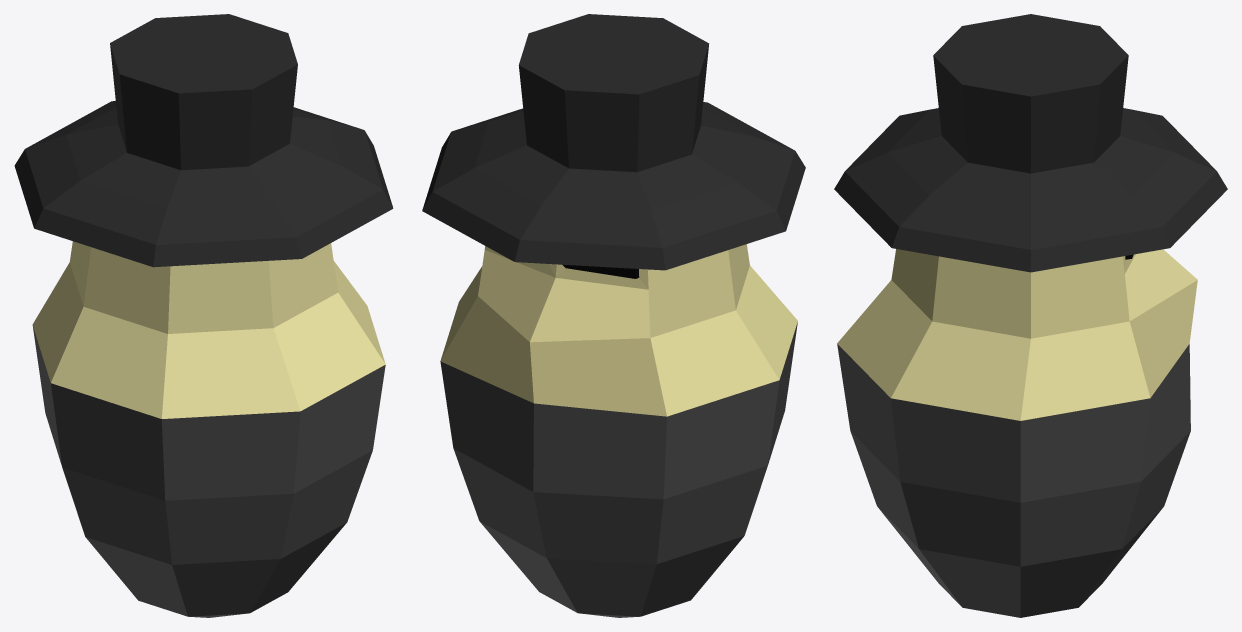
Rendered from Customer1.fbx.
The picture shows the model from 3 angles, left to right: view 1: azimuth 30°, elevation 25°; view 2: azimuth 150°, elevation 25°; view 3: azimuth 270°, elevation 25°; orthographic projection.
Visible parts, largest first — view 1: Cylinder, Cylinder.001; view 2: Cylinder, Cylinder.001; view 3: Cylinder, Cylinder.001.
Part boxes in pixels (left/top/right/bottom): Cylinder: left=32, top=241, right=385, bottom=617; Cylinder.001: left=14, top=14, right=393, bottom=267; Cylinder: left=440, top=244, right=797, bottom=617; Cylinder.001: left=422, top=14, right=805, bottom=270; Cylinder: left=837, top=249, right=1197, bottom=617; Cylinder.001: left=834, top=14, right=1227, bottom=272.
Size of the model in its own units: 116 by 182 by 116.
